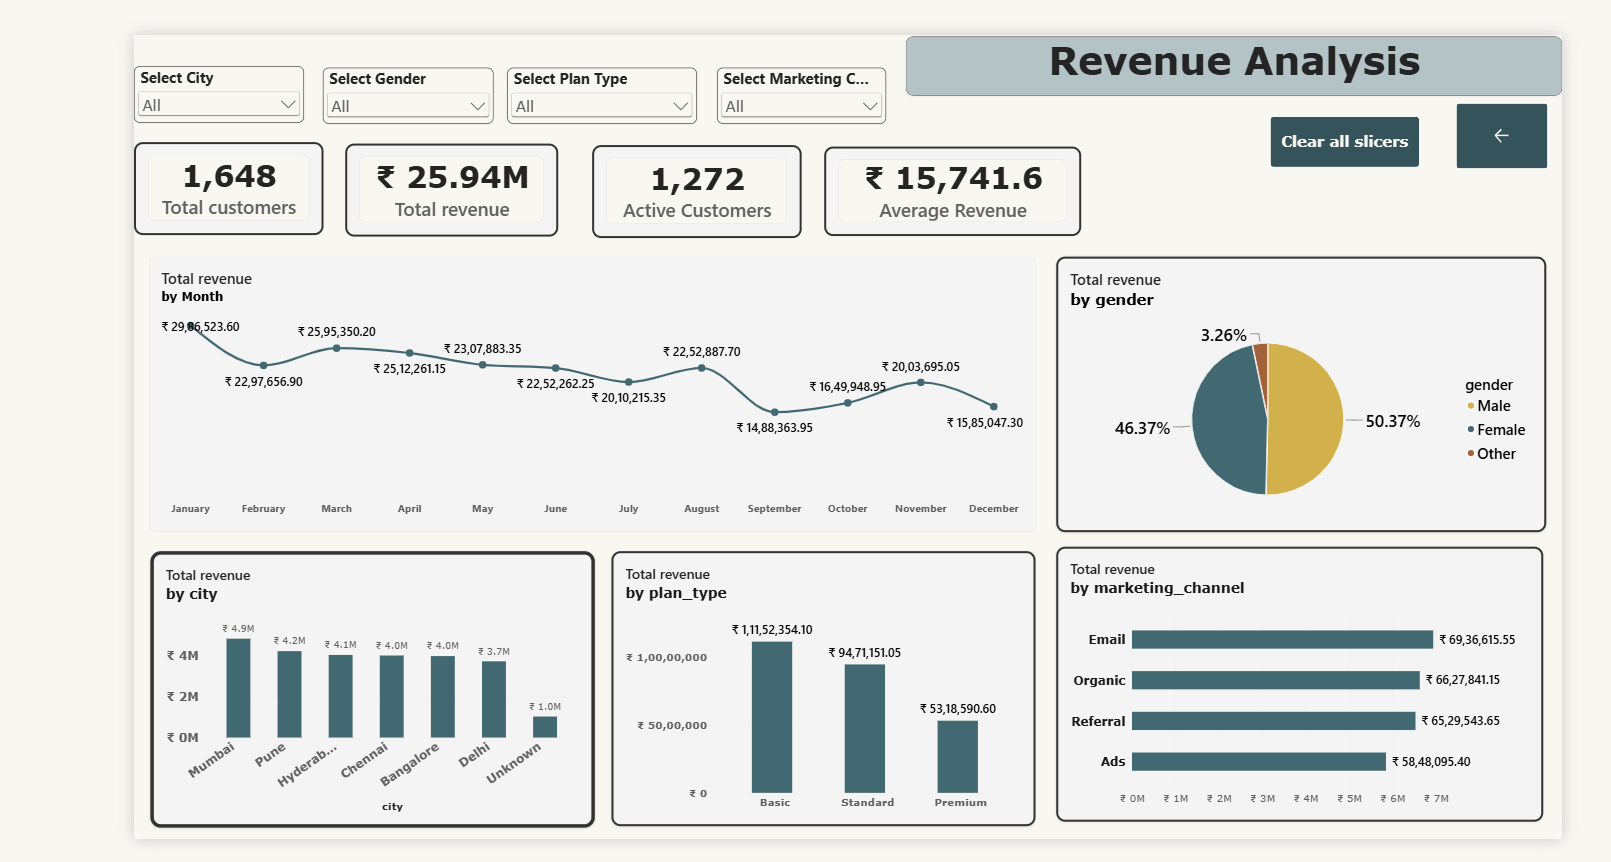

The dashboard page shown, as its layout file describes it:
{"tool":"powerbi","page":{"name":"Revenue Analysis.","canvas":[1920,1080],"ordinal":3},"visuals":[{"type":"cardVisual","fields":{"Data":["Table1.Total customers"]},"box":[0,143.2,254.5,125],"z":0},{"type":"cardVisual","fields":{"Data":["Table1.Total revenue"]},"box":[284.1,145.5,286.4,125],"z":1000},{"type":"cardVisual","fields":{"Data":["Table1.Active Customers"]},"box":[615.9,147.7,281.8,125],"z":2000},{"type":"cardVisual","fields":{"Data":["Table1.Average Revenue per Customer"]},"box":[927.3,150,345.5,120.5],"z":3000},{"type":"clusteredBarChart","fields":{"Category":["Table1.marketing_channel"],"Y":["Table1.Total revenue"]},"box":[1240,687.5,655,370],"z":4000,"group":"g1"},{"type":"pieChart","fields":{"Category":["Table1.gender"],"Y":["Table1.Total revenue"]},"box":[1241,297.7,659.1,370.5],"z":5000,"group":"g1"},{"type":"columnChart","fields":{"Category":["Table1.plan_type"],"Y":["Table1.Total revenue"]},"box":[643.2,693.2,570,370],"z":6000,"group":"g1"},{"type":"lineChart","fields":{"Category":["Table1.signup_date.Variation.Date Hierarchy.Month"],"Y":["Table1.Total revenue"]},"box":[20.5,297.7,1192.5,370],"z":7000,"group":"g1"},{"type":"slicer","fields":{"Values":["Table1.city"]},"box":[0,42.9,228.6,76.2],"z":8000},{"type":"slicer","fields":{"Values":["Table1.gender"]},"box":[254.5,43.2,229.5,75],"z":9000},{"type":"slicer","fields":{"Values":["Table1.plan_type"]},"box":[502.3,43.2,254.5,75],"z":10000},{"type":"slicer","fields":{"Values":["Table1.marketing_channel"]},"box":[784.1,43.2,227.3,75],"z":11000},{"type":"textbox","title":"          Revenue Analysis","box":[1038.6,2.3,881.8,79.5],"z":12000},{"type":"actionButton","box":[1527.5,110,200,67.5],"z":14000},{"type":"clusteredColumnChart","fields":{"Category":["Table1.city"],"Y":["Table1.Total revenue"]},"box":[23,692.8,597.6,371.4],"z":15000,"group":"g1"},{"type":"group","id":"g1","title":"Revenue","box":[20.5,297.7,1879.5,766.6],"z":15001},{"type":"actionButton","box":[1777.5,92.5,122.5,87.5],"z":15002}]}

Visuals, with their boxes on the page's 1920x1080 design canvas (x1, y1, x2, y2). These are canvas units, not pixel positions in the 1611x862 screenshot, which may show the page scaled, cropped or inside an application window:
cardVisual - Table1.Total customers: bbox=(0, 143, 254, 268)
cardVisual - Table1.Total revenue: bbox=(284, 146, 570, 270)
cardVisual - Table1.Active Customers: bbox=(616, 148, 898, 273)
cardVisual - Table1.Average Revenue per Customer: bbox=(927, 150, 1273, 270)
clusteredBarChart - Table1.marketing_channel x Table1.Total revenue: bbox=(1240, 688, 1895, 1058)
pieChart - Table1.gender x Table1.Total revenue: bbox=(1241, 298, 1900, 668)
columnChart - Table1.plan_type x Table1.Total revenue: bbox=(643, 693, 1213, 1063)
lineChart - Table1.signup_date.Variation.Date Hierarchy.Month x Table1.Total revenue: bbox=(20, 298, 1213, 668)
slicer - Table1.city: bbox=(0, 43, 229, 119)
slicer - Table1.gender: bbox=(254, 43, 484, 118)
slicer - Table1.plan_type: bbox=(502, 43, 757, 118)
slicer - Table1.marketing_channel: bbox=(784, 43, 1011, 118)
"          Revenue Analysis" textbox: bbox=(1039, 2, 1920, 82)
actionButton: bbox=(1528, 110, 1728, 178)
clusteredColumnChart - Table1.city x Table1.Total revenue: bbox=(23, 693, 621, 1064)
"Revenue" group: bbox=(20, 298, 1900, 1064)
actionButton: bbox=(1778, 92, 1900, 180)
